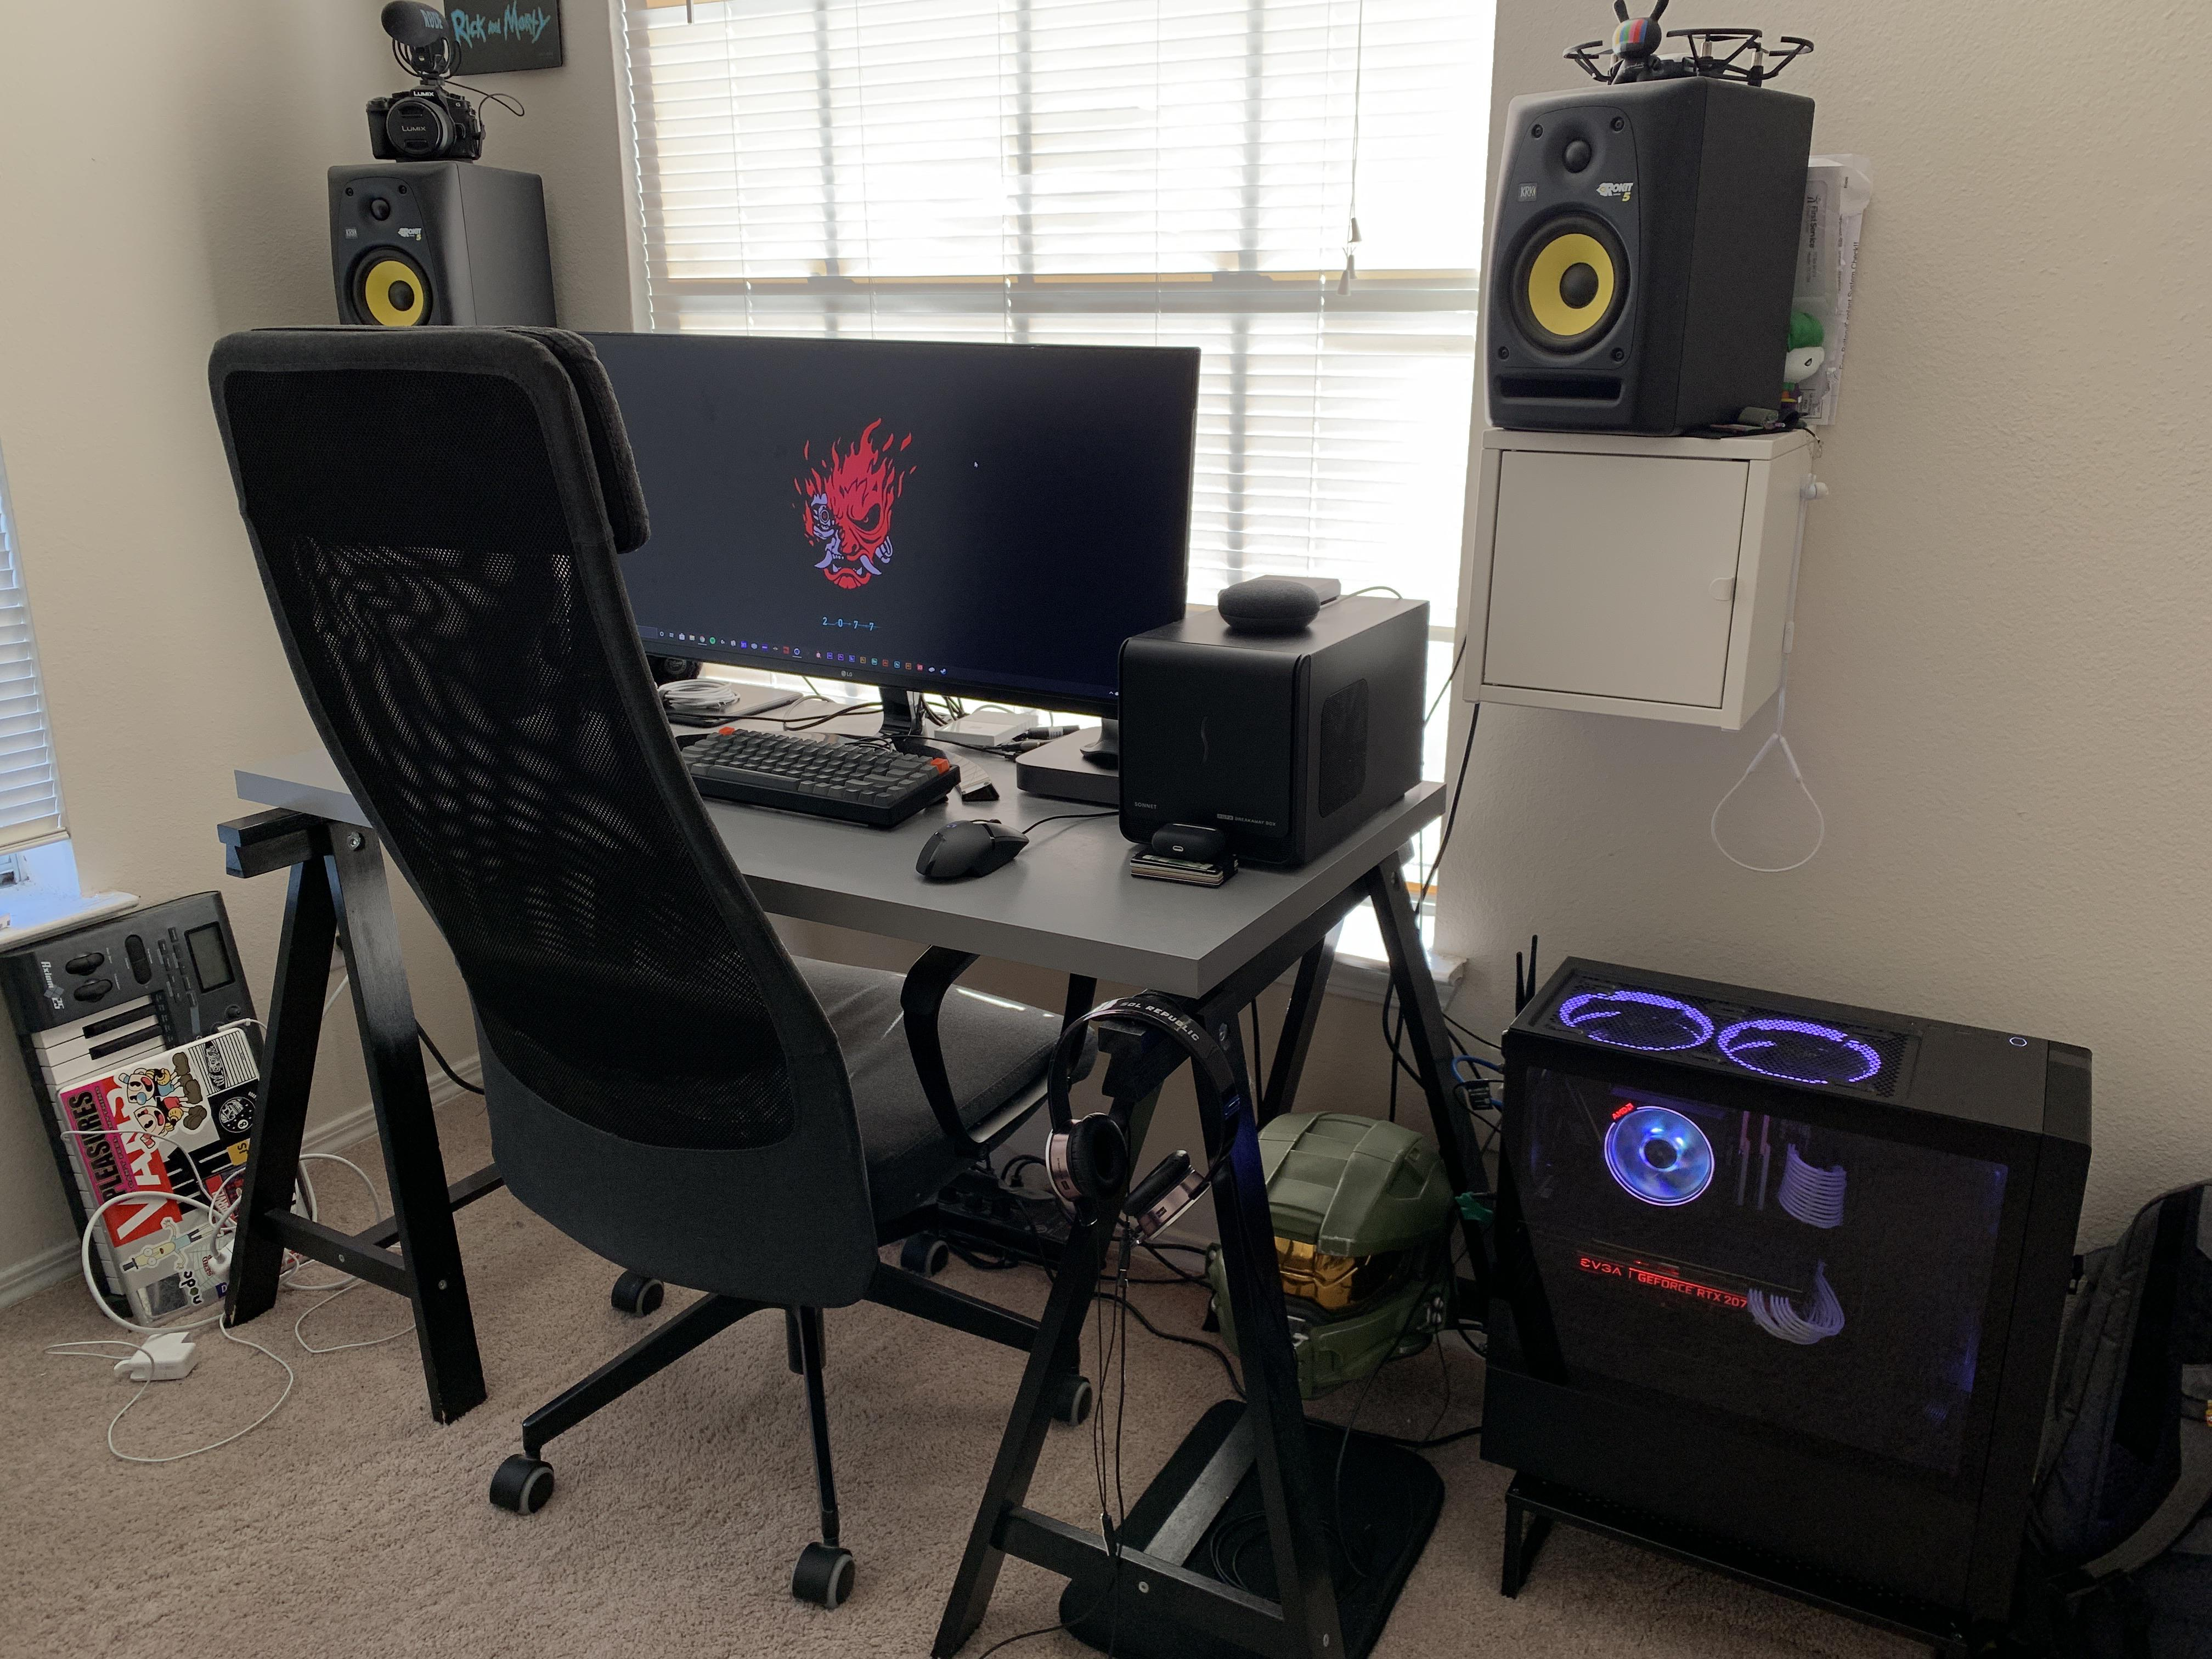Airpods (Apple): (1150, 823, 1224, 863)
Chair (Generic): (206, 326, 1090, 1610)
Decoration (Generic): (1217, 1108, 1453, 1398)
Desk (Generic): (221, 681, 1493, 1650)
Desktop (Windows): (1484, 955, 2095, 1629)
External Speakers (Subwoofers): (1489, 78, 1820, 441), (326, 164, 556, 333)
Headphones: (1043, 999, 1245, 1237)
Keyboard (Generic): (665, 730, 960, 830)
Laptop (OSX): (64, 1030, 319, 1328)
Monitor (Landscape): (571, 335, 1200, 714)
Mouse (Gaming): (916, 817, 1031, 897)
Musical Instrument (Keyboard/Piano): (2, 885, 319, 1304)
